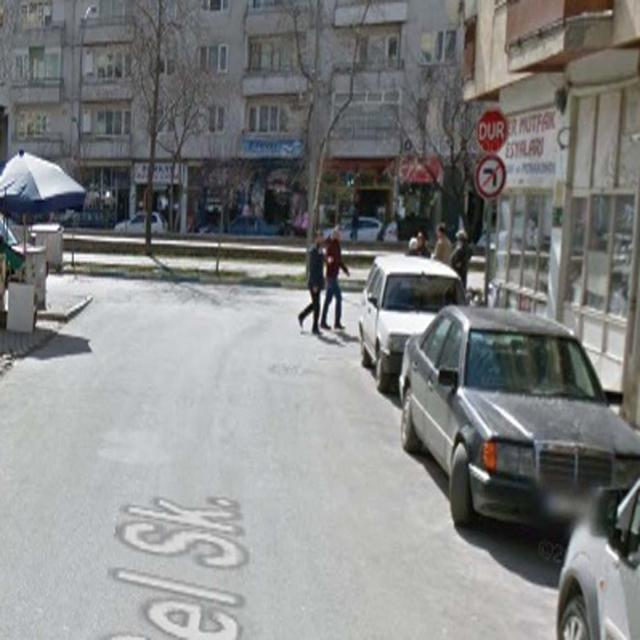dur: (478, 110, 508, 154)
soladonulmez: (476, 156, 506, 200)
